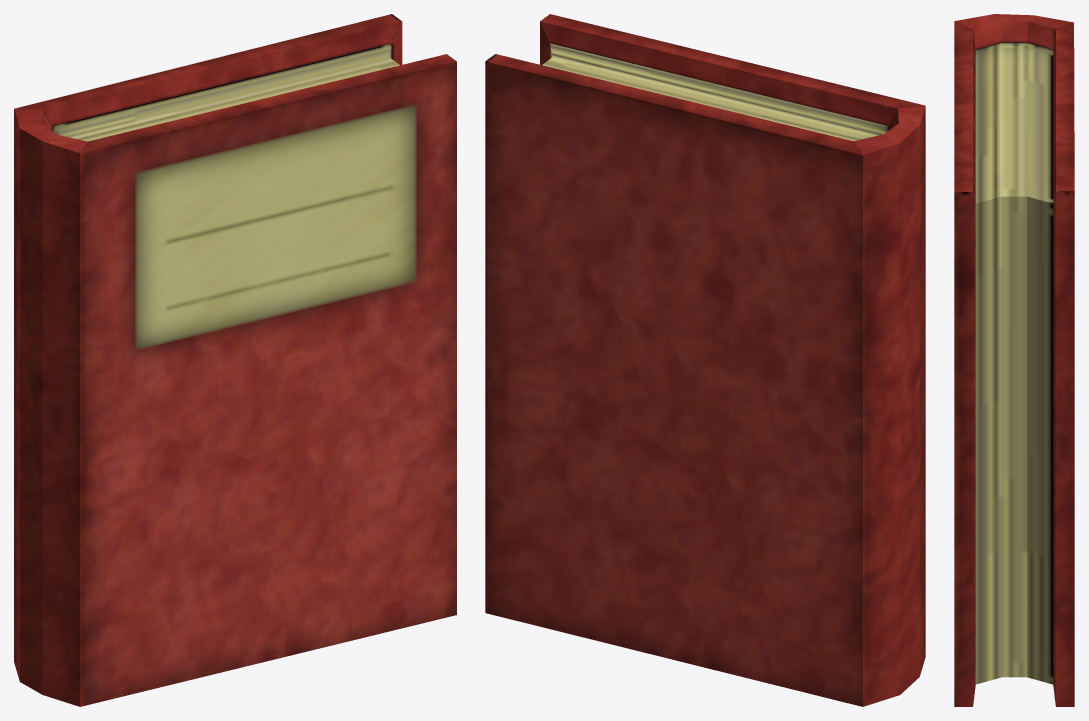
The model's file is zeszyt_01.fbx.
3 renders of one model, left to right at view 1: azimuth 30°, elevation 25°; view 2: azimuth 150°, elevation 25°; view 3: azimuth 270°, elevation 25°, orthographic. The views are drawn at different scales.
Parts seen in each view (by area): view 1: Cube; view 2: Cube; view 3: Cube.
Boxes of the visible parts, x1,y1,x2,y2 form: Cube: (14, 14, 456, 706); Cube: (485, 14, 925, 706); Cube: (954, 14, 1074, 706).
Bounding box in the file's own units: 149 × 201 × 42.42.
